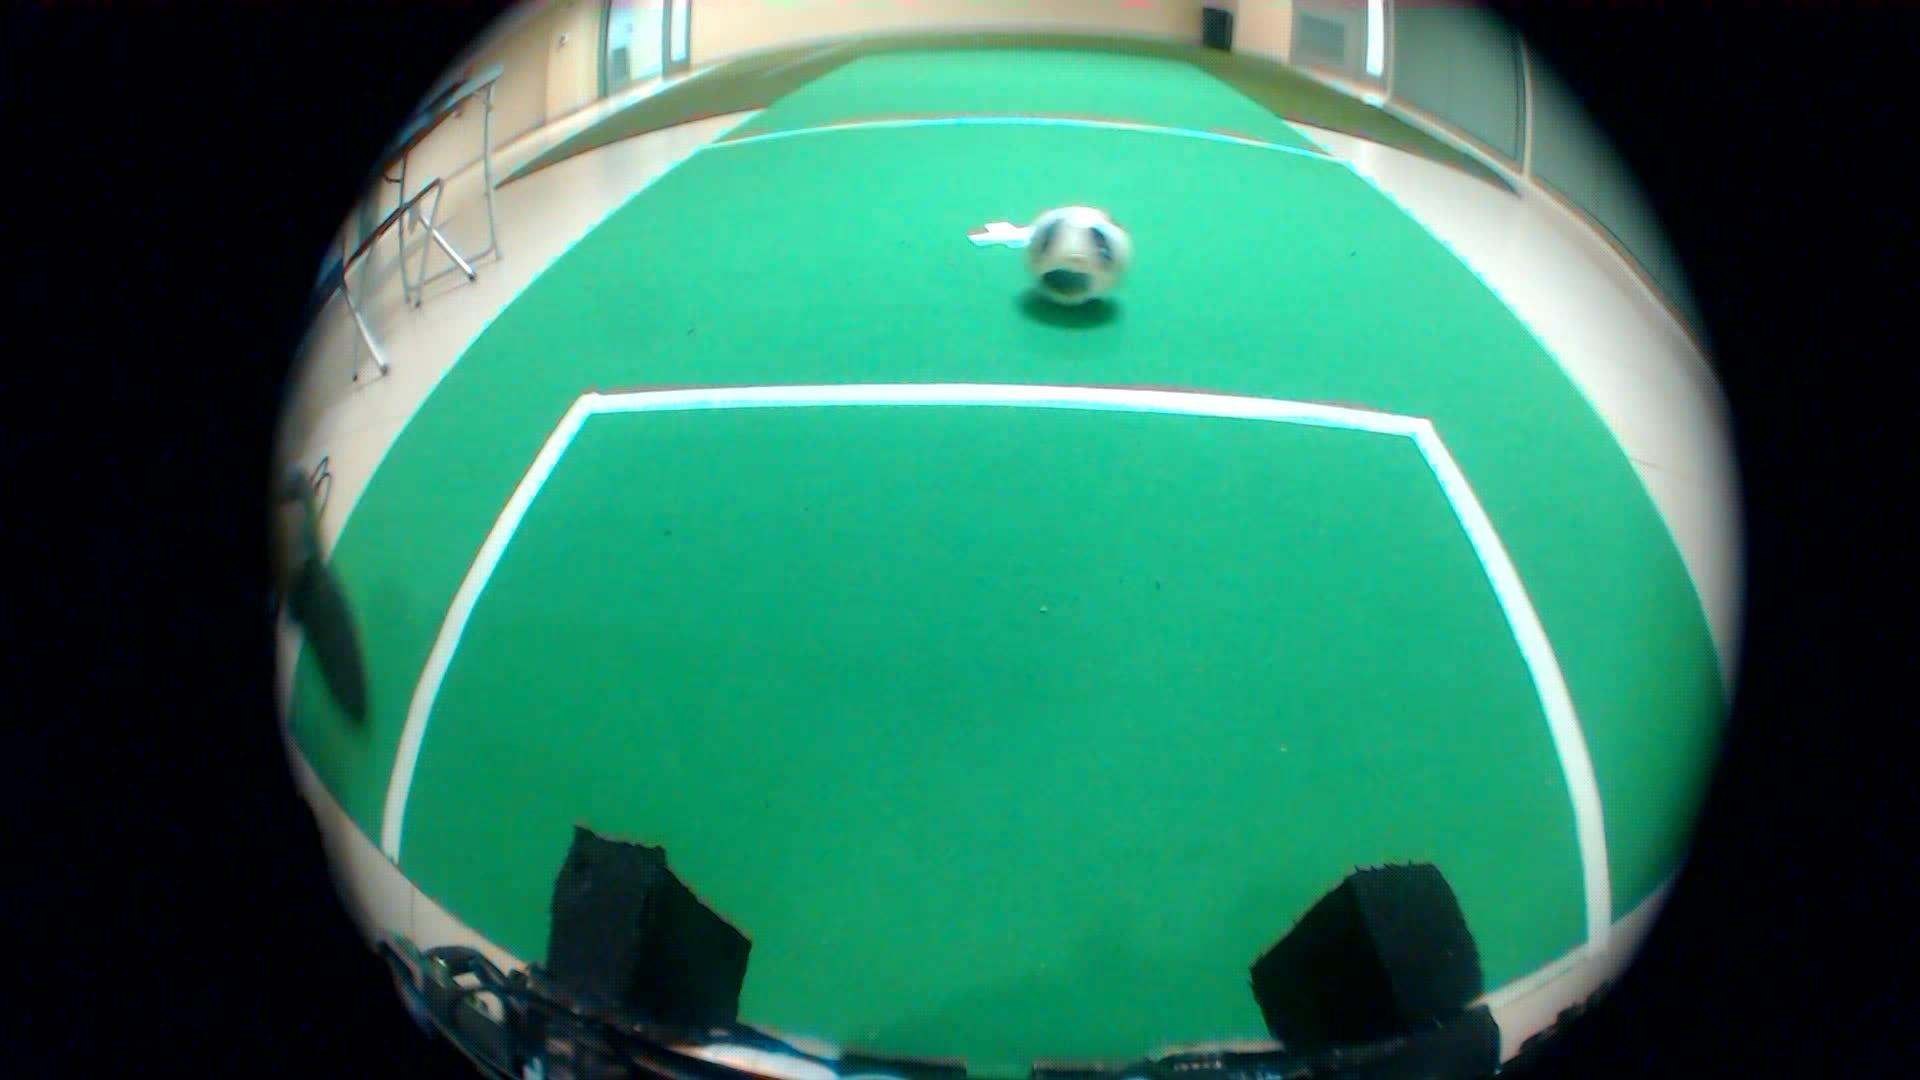ball: (997, 189, 1151, 332)
